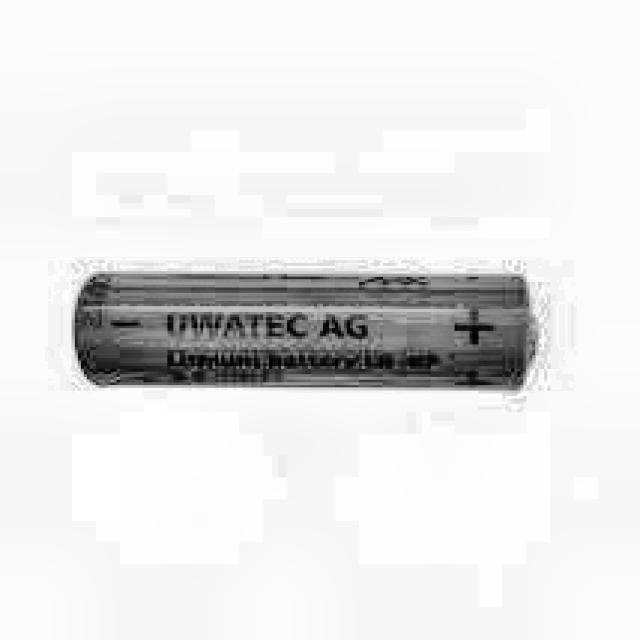Battery: (75, 274, 535, 393)
